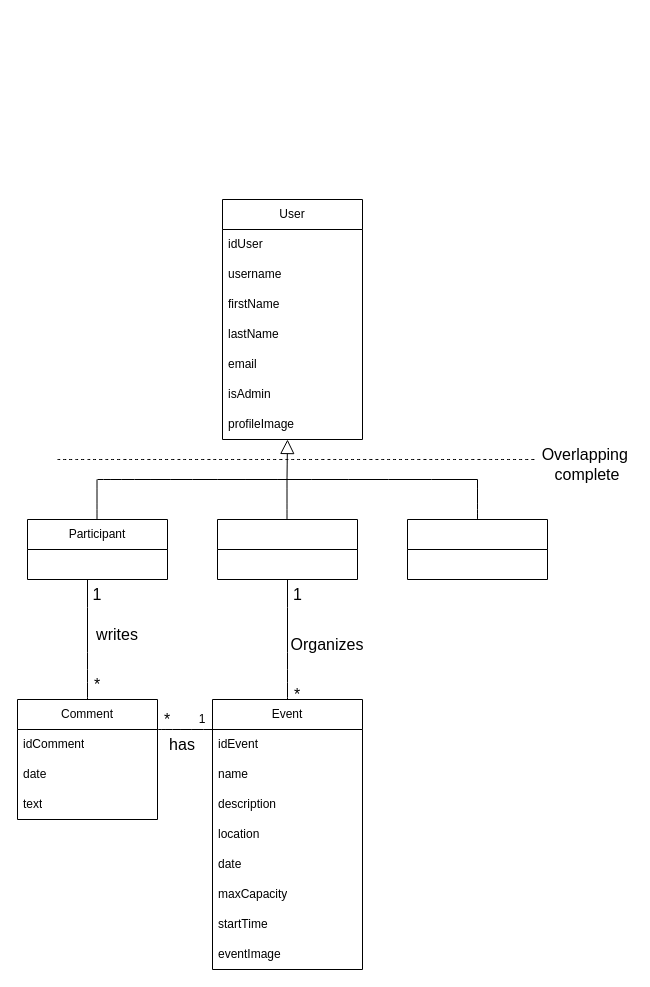
Some shapes in this 650 by 987 pixel diagram are drawn without their labels. The box of each missing label's shape, as (x1, y1, x2, y2) in pixels:
Admin: (406, 518, 548, 580)
Organizer: (216, 518, 358, 580)
